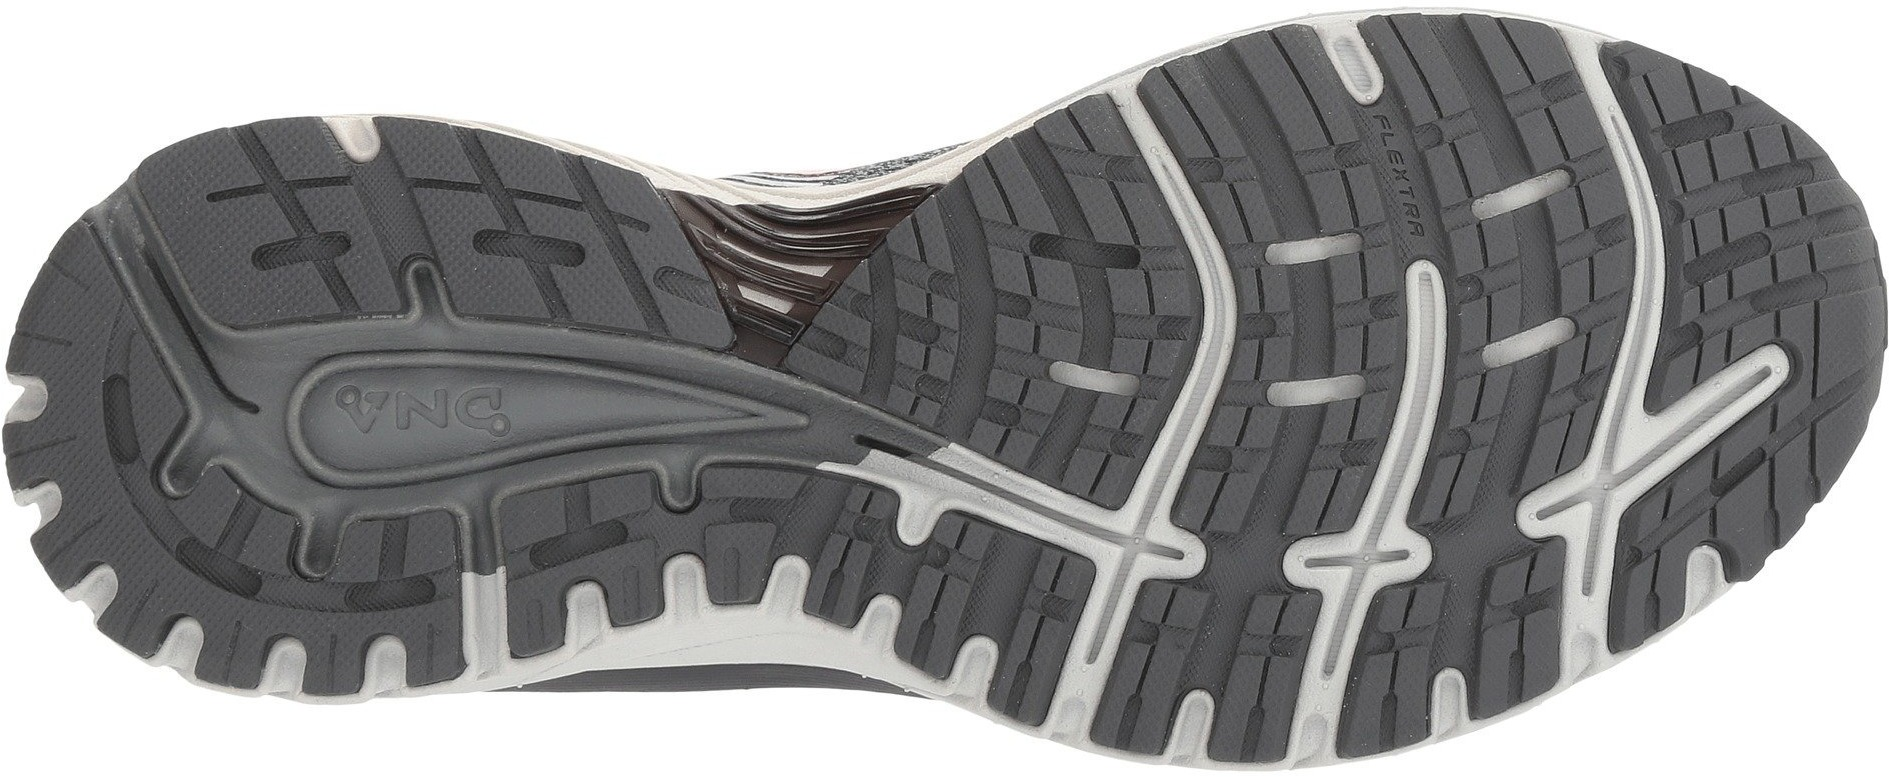quad: (490, 470, 673, 663)
